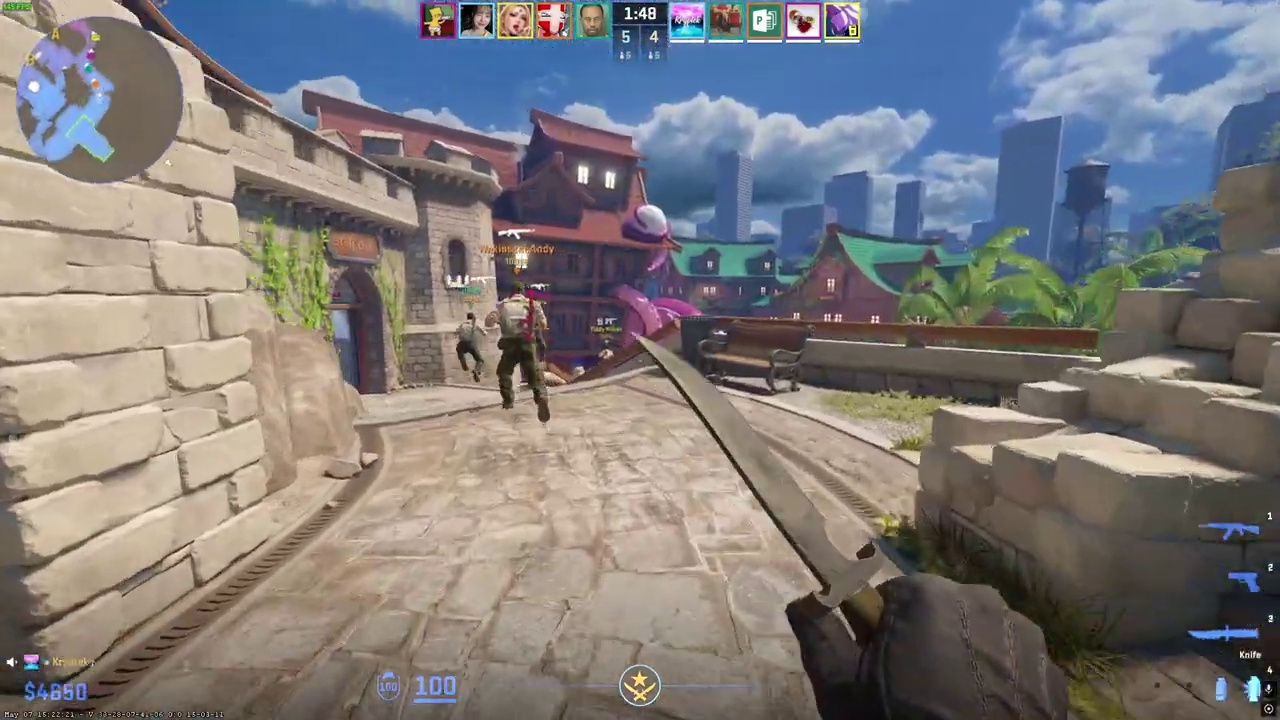Terrorist: (489, 282, 551, 425), (455, 312, 487, 382), (599, 344, 616, 369)
